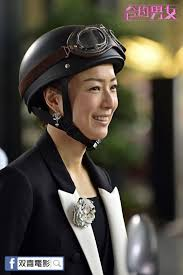helmet: (11, 26, 134, 83)
